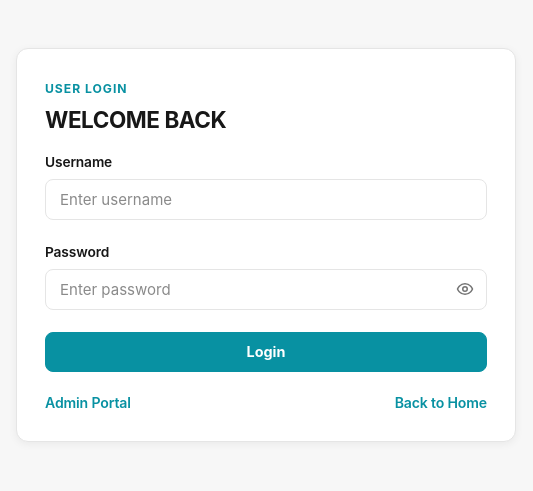
Test: User and Admin Login Integration › handles invalid credentials (HTTP 401) with clean error and clears password
Type "wronguser" into the field with placeholder "Enter username" at (266, 200), box x1=45 y1=179 x2=487 y2=220
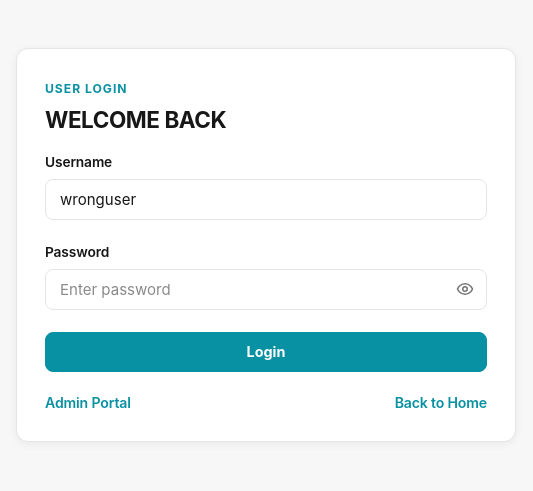
Type "badpass" into the password field with placeholder "Enter password" at (266, 289), box x1=45 y1=269 x2=487 y2=310
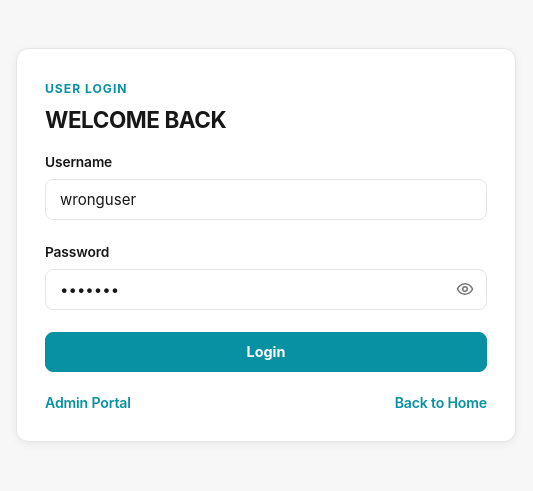
Click the button "Login" at (266, 352), box x1=45 y1=332 x2=487 y2=372
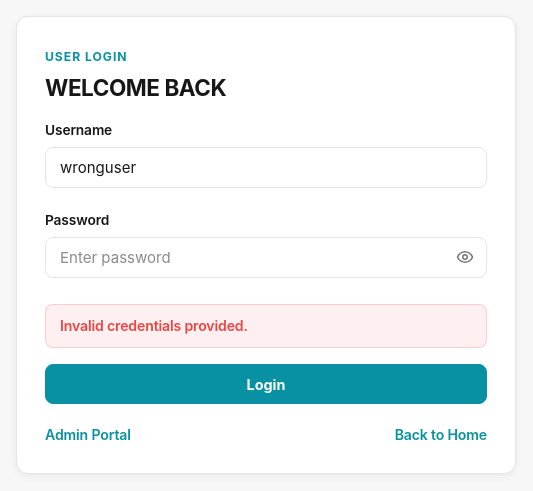
Expected: the button "Login" is enabled, x1=45 y1=364 x2=487 y2=404
Result: the text "Invalid credentials provided." is shown at x1=45 y1=304 x2=487 y2=348
Result: the password field with placeholder "Enter password" is empty at x1=45 y1=236 x2=487 y2=278
